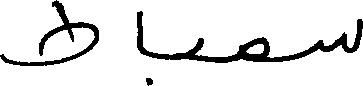X: (0, 0, 96, 70), (320, 14, 362, 57), (243, 32, 266, 66), (188, 33, 202, 65), (138, 6, 141, 58)
